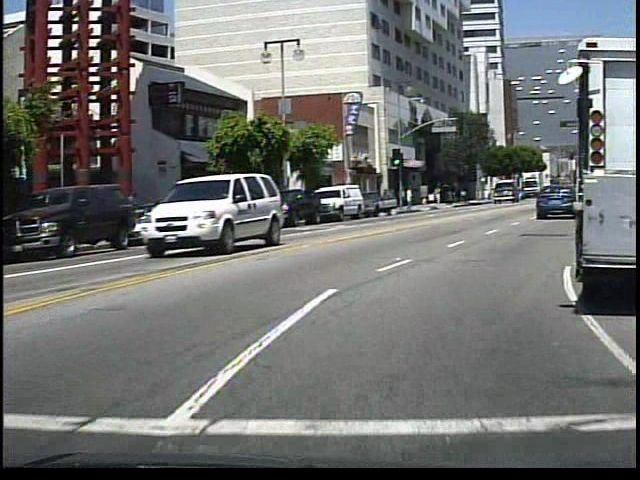person: (406, 186, 420, 214)
